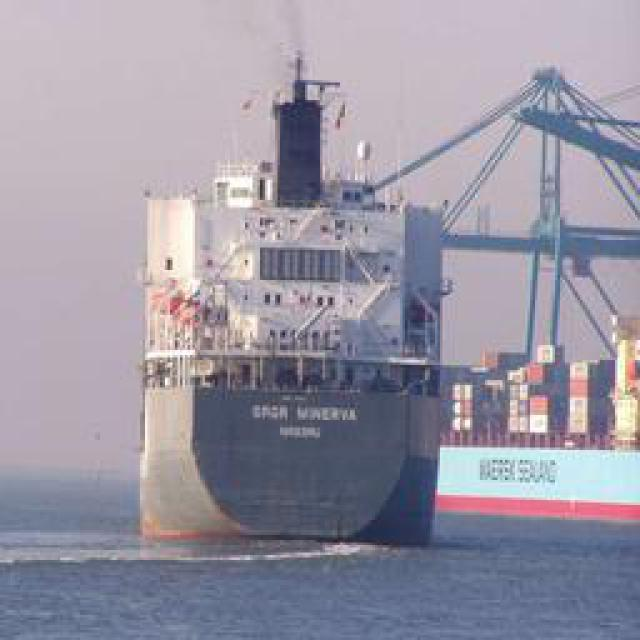Ship: (149, 138, 472, 543)
